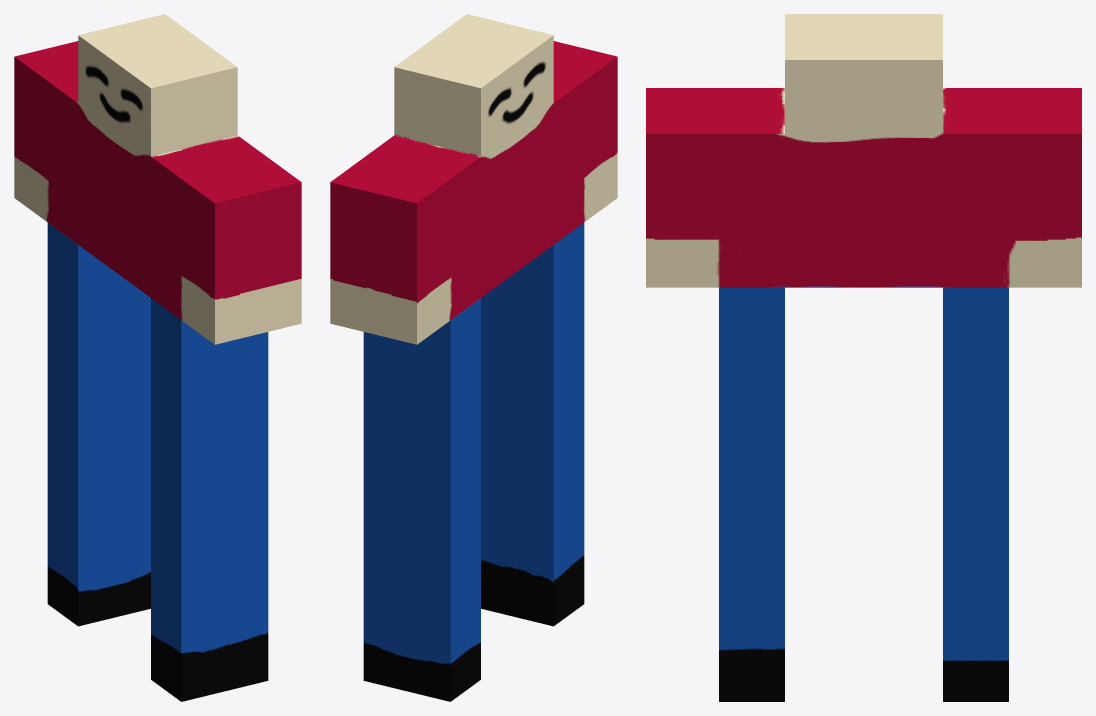
The model's file is guy.gltf.
3 renders of one model, left to right at view 1: azimuth 30°, elevation 25°; view 2: azimuth 150°, elevation 25°; view 3: azimuth 270°, elevation 25°, orthographic. The views are drawn at different scales.
Visible parts, largest first — view 1: Cube.001; view 2: Cube.001; view 3: Cube.001.
Boxes of the visible parts, box(x1,y1,x2,y2) form: Cube.001: box(14, 14, 301, 701); Cube.001: box(330, 14, 617, 701); Cube.001: box(646, 14, 1081, 701).
Size of the model in its own units: 0.2375 by 1.55 by 0.9504.
1 material, 1 textured.
